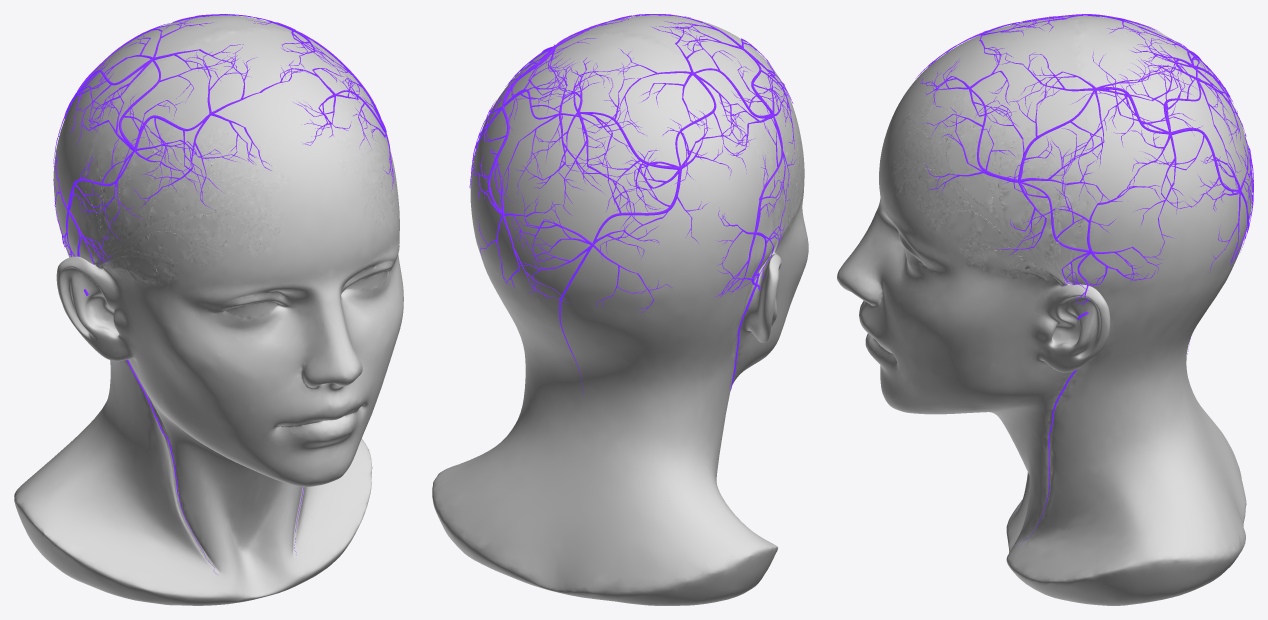
Rendered from cymba-neural-mannequin-polished-desktop.glb.
The picture shows the model from 3 angles, left to right: view 1: azimuth 30°, elevation 25°; view 2: azimuth 150°, elevation 25°; view 3: azimuth 270°, elevation 25°; orthographic projection. The views are drawn at different scales.
Parts seen in each view (by area): view 1: Cymba_Marble_Mannequin, Purple_Surface_Nerve_Fibres; view 2: Cymba_Marble_Mannequin, Purple_Surface_Nerve_Fibres; view 3: Cymba_Marble_Mannequin, Purple_Surface_Nerve_Fibres.
Part boxes in pixels (x1,y1,x2,y2): Cymba_Marble_Mannequin: [14, 15, 403, 605]; Purple_Surface_Nerve_Fibres: [53, 14, 394, 574]; Cymba_Marble_Mannequin: [432, 15, 808, 605]; Purple_Surface_Nerve_Fibres: [469, 14, 796, 395]; Cymba_Marble_Mannequin: [837, 16, 1252, 605]; Purple_Surface_Nerve_Fibres: [915, 14, 1253, 544].
Bounding box in the file's own units: 2.74 × 4.27 × 3.06.
